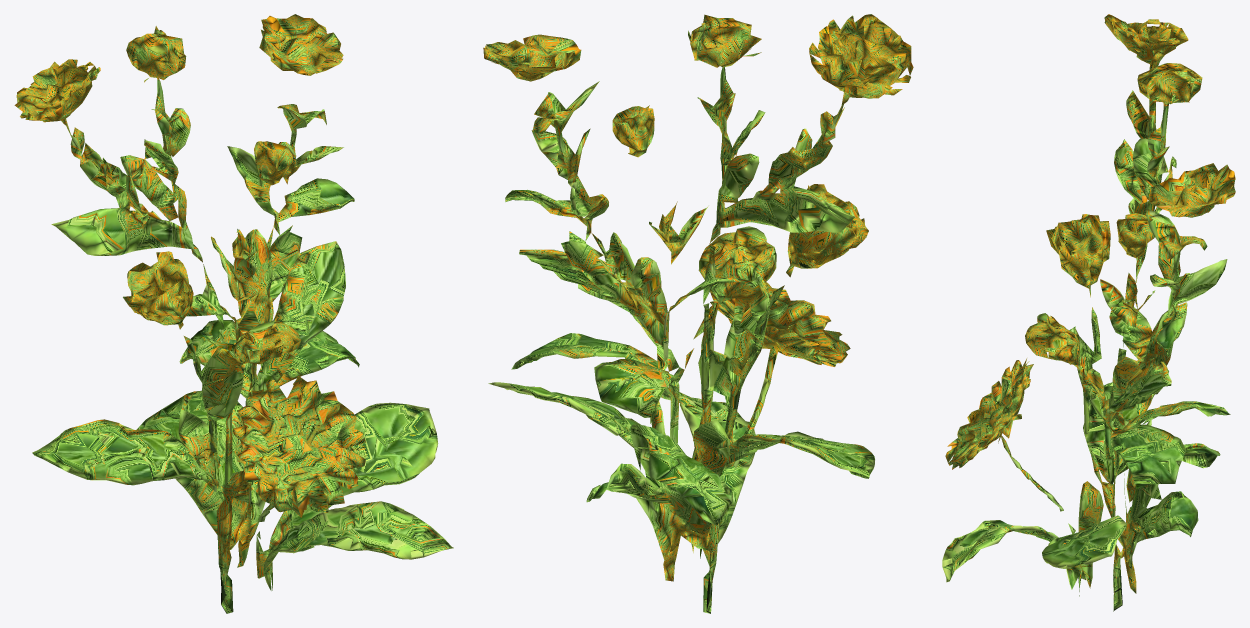
The picture shows the model from 3 angles, left to right: view 1: azimuth 30°, elevation 25°; view 2: azimuth 150°, elevation 25°; view 3: azimuth 270°, elevation 25°; orthographic projection. The views are drawn at different scales.
Size of the model in its own units: 1.36 by 1.9 by 0.9474.
Materials: 1 (1 with a texture image).
